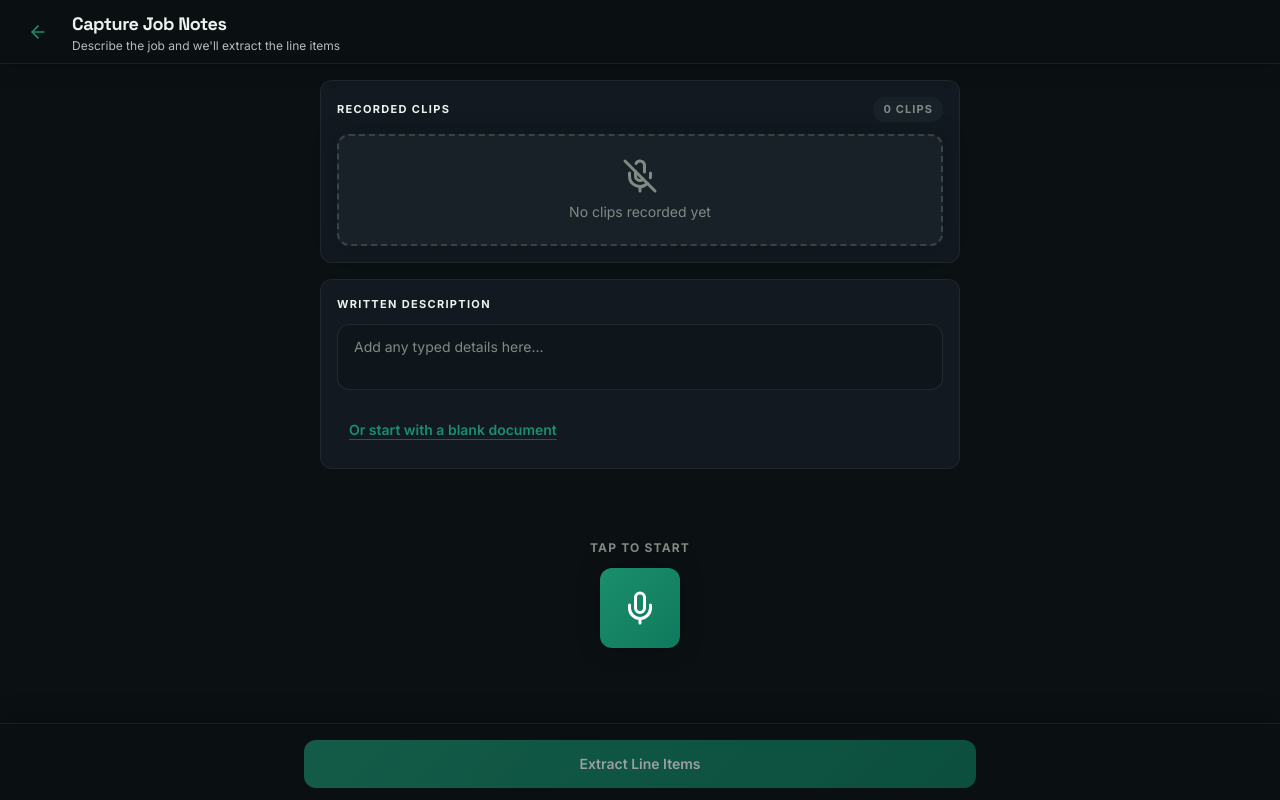
Test case: CaptureScreen › shows persistent error toast and does not navigate when extraction fails
Type "Install sod in backyard" into the text box labelled "WRITTEN DESCRIPTION".
click(640, 357); type("Install sod in backyard")  # box 337,324 -> 943,390
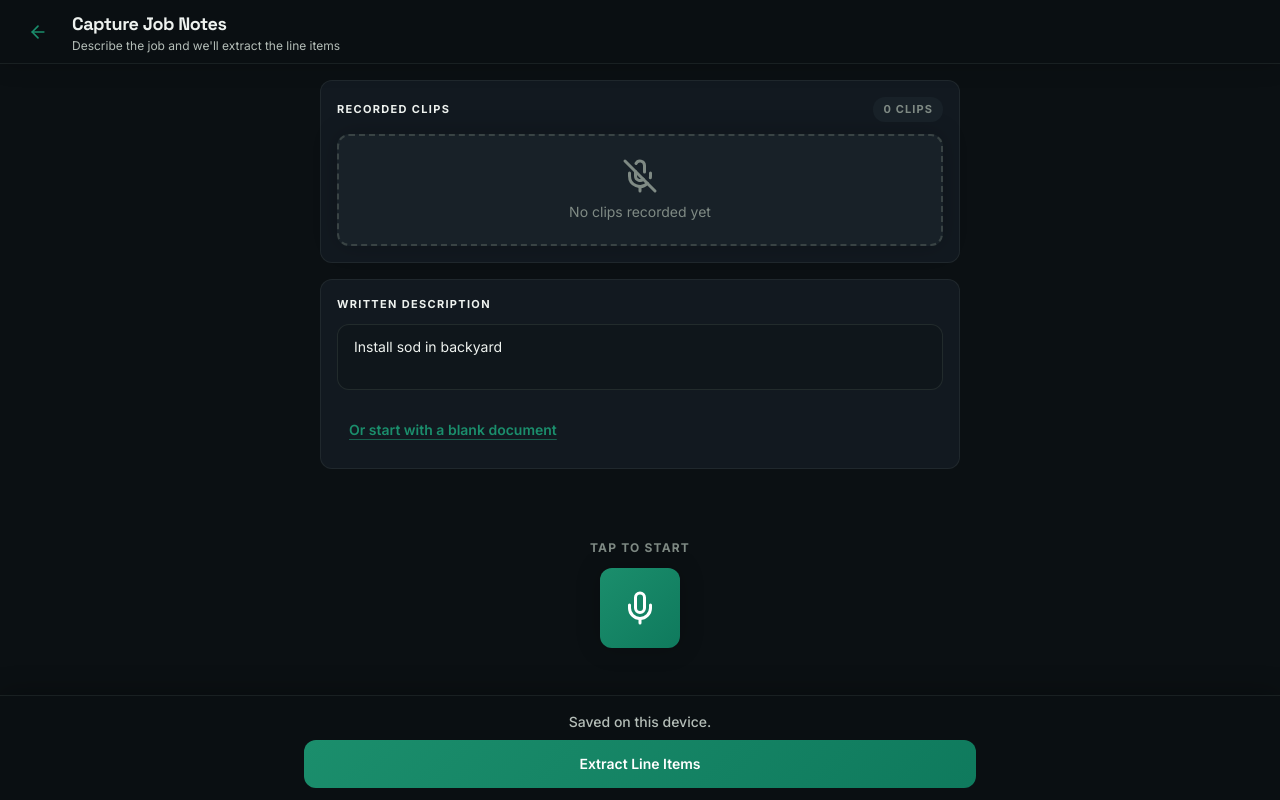
Click the button "Extract Line Items".
click(640, 764)  # box 304,740 -> 976,788
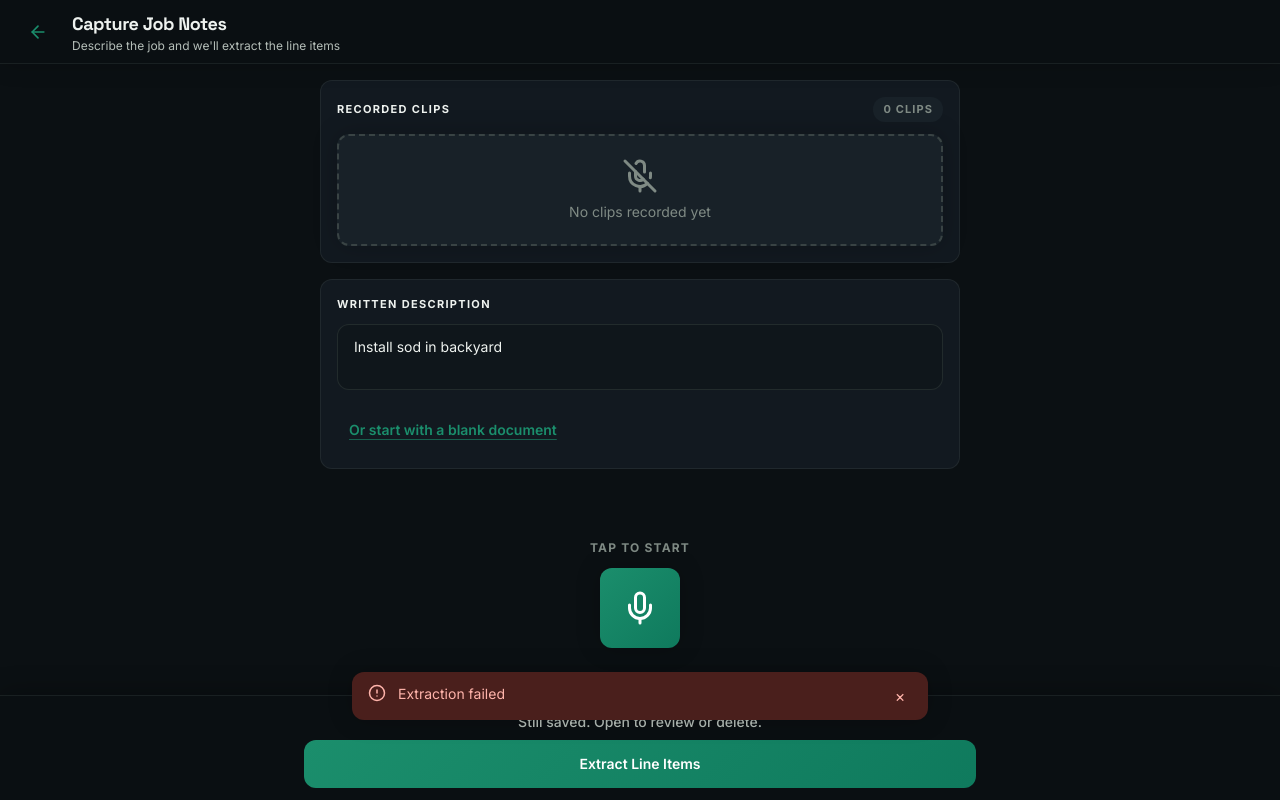
Now the message shows "Extraction failed", box 398,685 -> 505,702
